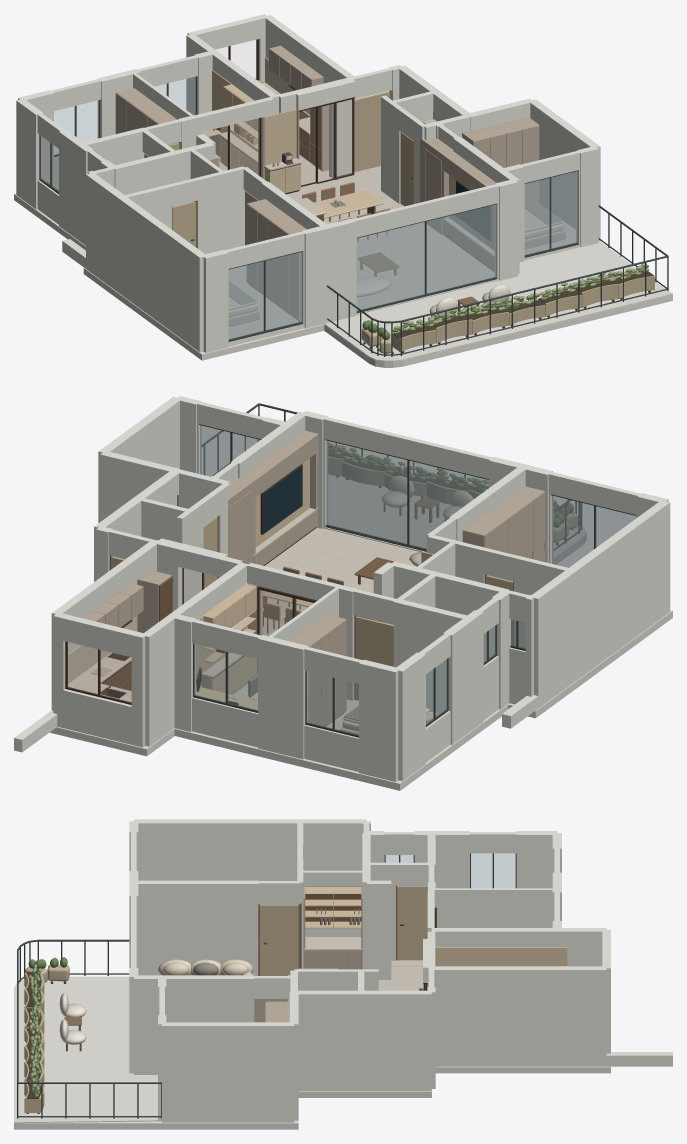
Rendered from island-layout.glb.
The picture shows the model from 3 angles, top to bottom: view 1: azimuth 30°, elevation 25°; view 2: azimuth 150°, elevation 25°; view 3: azimuth 270°, elevation 25°; orthographic projection. The views are drawn at different scales.
Visible parts, largest first — view 1: Wall_MasterWest, LivingTerrace_glass, Floor_TerraceFloor, Floor_Living, MasterSouth_glass, Wall_MasterSouthEast, Foundation, GuestSESouth_glass, Wall_MasterBathSouthEast, Wall_GuestSEEast, Wall_LivingTerrace_head, Wall_BathNorth (+77 smaller); view 2: Wall_MasterWest, LivingTerrace_glass, Wall_NorthMiddlePier, Foundation, Wall_BearingKitchenStudy, Floor_Living, Floor_TerraceFloor, Wall_GuestNWNorthWest, Wall_LivingTerrace_head, Wall_GuestNWSouth, MasterSouth_glass, Wall_GuestSEEast (+71 smaller); view 3: Wall_KitchenEast, Floor_TerraceFloor, Wall_FoyerEast, Wall_GuestSEEast, Wall_MasterWest, Wall_MasterBedroomEast, Wall_GuestSEWest, Proposed north room partition, Foundation, Wall_BearingKitchenStudy, Door_MasterBedroom_East, Wrap kitchen full-height veneer (+27 smaller).
Part boxes in pixels (x1,y1,x2,y2): Wall_MasterWest: (86,173,205,351); LivingTerrace_glass: (356,204,495,310); Floor_TerraceFloor: (324,243,672,361); Floor_Living: (286,166,494,310); MasterSouth_glass: (228,252,301,339); Wall_MasterSouthEast: (301,218,355,328); Foundation: (14,193,672,367); GuestSESouth_glass: (524,171,577,255); Wall_MasterBathSouthEast: (195,166,245,253); Wall_GuestSEEast: (528,99,600,241); Wall_LivingTerrace_head: (352,184,498,237); Wall_BathNorth: (112,142,214,206); Wall_MasterWest: (532,500,670,708); LivingTerrace_glass: (326,440,488,548); Wall_NorthMiddlePier: (258,635,308,759); Foundation: (50,534,672,790); Wall_BearingKitchenStudy: (142,562,248,746); Floor_Living: (263,527,419,636); Floor_TerraceFloor: (328,475,586,558); Wall_GuestNWNorthWest: (359,659,400,781); Wall_LivingTerrace_head: (323,417,492,478); Wall_GuestNWSouth: (393,598,470,713); MasterSouth_glass: (552,495,636,567); Wall_GuestSEEast: (98,396,181,523); Wall_KitchenEast: (431,966,606,1066); Floor_TerraceFloor: (14,976,161,1123); Wall_FoyerEast: (294,990,431,1090); Wall_GuestSEEast: (162,1022,294,1122); Wall_MasterWest: (134,819,366,904); Wall_MasterBedroomEast: (134,880,258,975); Wall_GuestSEWest: (134,975,254,1074); Proposed north room partition: (431,888,556,927); Foundation: (14,1066,610,1129); Wall_BearingKitchenStudy: (431,928,606,966); Door_MasterBedroom_East: (260,904,298,975); Wrap kitchen full-height veneer: (435,947,567,966).
Bounding box in the file's own units: 12.85 × 3 × 17.31.
